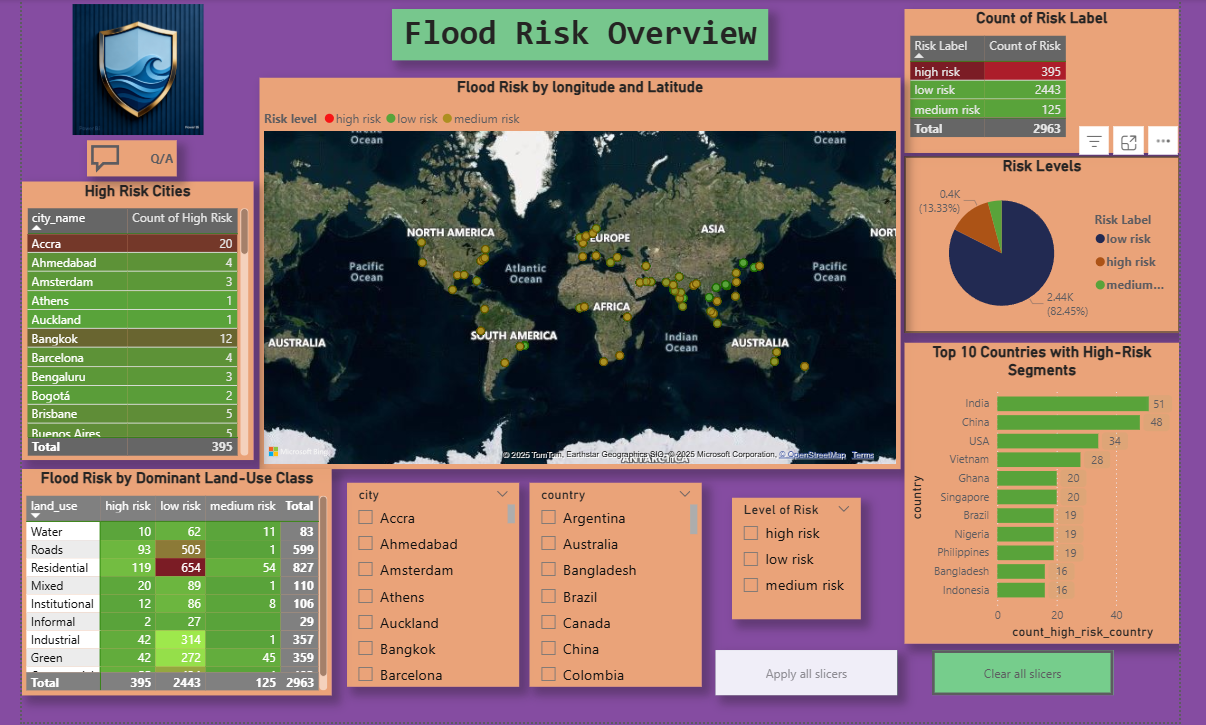

What the dashboard file says about the page in this screenshot:
{"tool":"powerbi","page":{"name":"Flood risk overview","canvas":[1280,800],"ordinal":0},"visuals":[{"type":"tableEx","title":"Count of Risk Label","fields":{"Values":["df.risk_label1","CountNonNull(df.risk_label1)"]},"box":[976.5,11.2,303.5,159.2],"z":0},{"type":"pieChart","title":"Risk Levels","fields":{"Category":["df.risk_label1"],"Y":["CountNonNull(df.risk_label1)"]},"box":[975.8,174.2,304.1,194.9],"z":1000},{"type":"textbox","box":[409.1,11.1,416,56.7],"z":2000},{"type":"map","title":"Flood Risk by longitude and Latitude","fields":{"Y":["Rain_tracker.latitude"],"X":["Rain_tracker.longitude"],"Series":["Rain_tracker.risk_label1"]},"box":[262.6,87.1,709.1,432.6],"z":3000},{"type":"clusteredBarChart","title":"Top 10 Countries with High-Risk Segments","fields":{"Category":["Rain_tracker.country"],"Y":["Rain_tracker.count_high_risk_country"]},"box":[975.8,380.1,304.1,333.1],"z":4000},{"type":"tableEx","title":"High Risk Cities","fields":{"Values":["df.city_name","df.risk_label1"]},"box":[0,201.8,255.7,308.2],"z":5000},{"type":"slicer","fields":{"Values":["Rain_tracker.city_name"]},"box":[359.4,534.9,190.7,225.3],"z":6000},{"type":"slicer","fields":{"Values":["Rain_tracker.country"]},"box":[561.2,534.9,190.7,225.3],"z":7000},{"type":"pivotTable","title":"Flood Risk by Dominant Land-Use Class","fields":{"Columns":["Rain_tracker.risk_label1"],"Rows":["Rain_tracker.land_use"],"Values":["CountNonNull(Rain_tracker.segment_id)"]},"box":[0,519.7,342.8,250.2],"z":8000},{"type":"slicer","fields":{"Values":["Rain_tracker.risk_label1"]},"box":[785.1,551.5,142.4,134.1],"z":9000},{"type":"actionButton","box":[767.1,720.1,200.4,49.8],"z":10000},{"type":"actionButton","box":[1006.2,720.1,200.4,49.8],"z":11000},{"type":"image","box":[51,0,154.3,155.5],"z":12000},{"type":"actionButton","box":[71.9,156.2,99.5,40.1],"z":12002}]}

Visuals, with their boxes in screenshot pixels (x1, y1, x2, y2):
"Count of Risk Label" tableEx: bbox=[898, 10, 1170, 152]
"Risk Levels" pieChart: bbox=[898, 156, 1170, 330]
textbox: bbox=[391, 10, 763, 61]
"Flood Risk by longitude and Latitude" map: bbox=[260, 78, 894, 465]
"Top 10 Countries with High-Risk Segments" clusteredBarChart: bbox=[898, 340, 1170, 638]
"High Risk Cities" tableEx: bbox=[25, 180, 254, 456]
slicer - Rain_tracker.city_name: bbox=[347, 478, 517, 680]
slicer - Rain_tracker.country: bbox=[527, 478, 698, 680]
"Flood Risk by Dominant Land-Use Class" pivotTable: bbox=[25, 465, 332, 689]
slicer - Rain_tracker.risk_label1: bbox=[727, 493, 855, 613]
actionButton: bbox=[711, 644, 890, 689]
actionButton: bbox=[925, 644, 1104, 689]
image: bbox=[71, 0, 209, 139]
actionButton: bbox=[89, 140, 178, 176]
